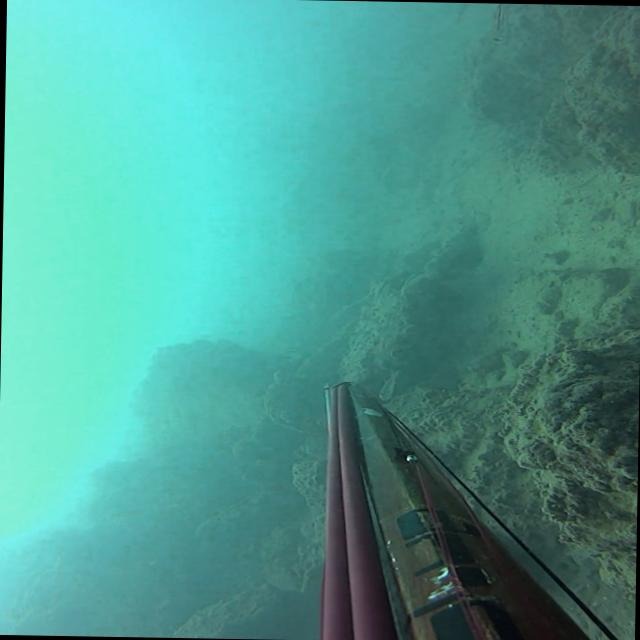Balon Baligi: (378, 369, 400, 400)
